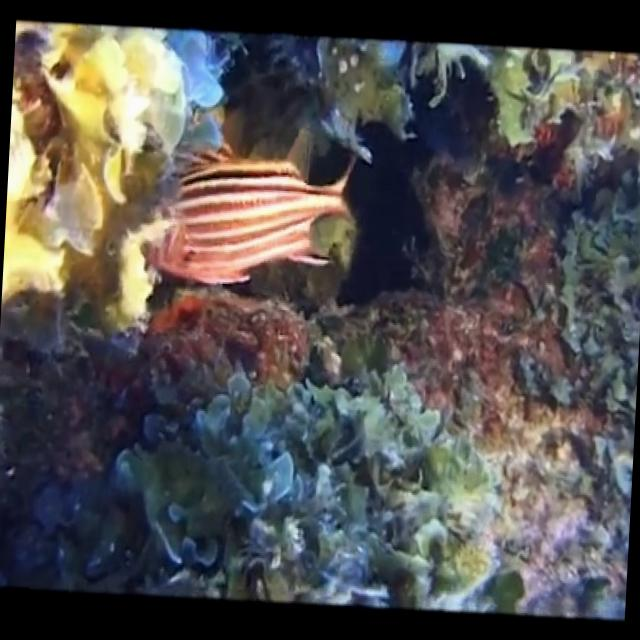Asker Baligi: (138, 133, 362, 295)
